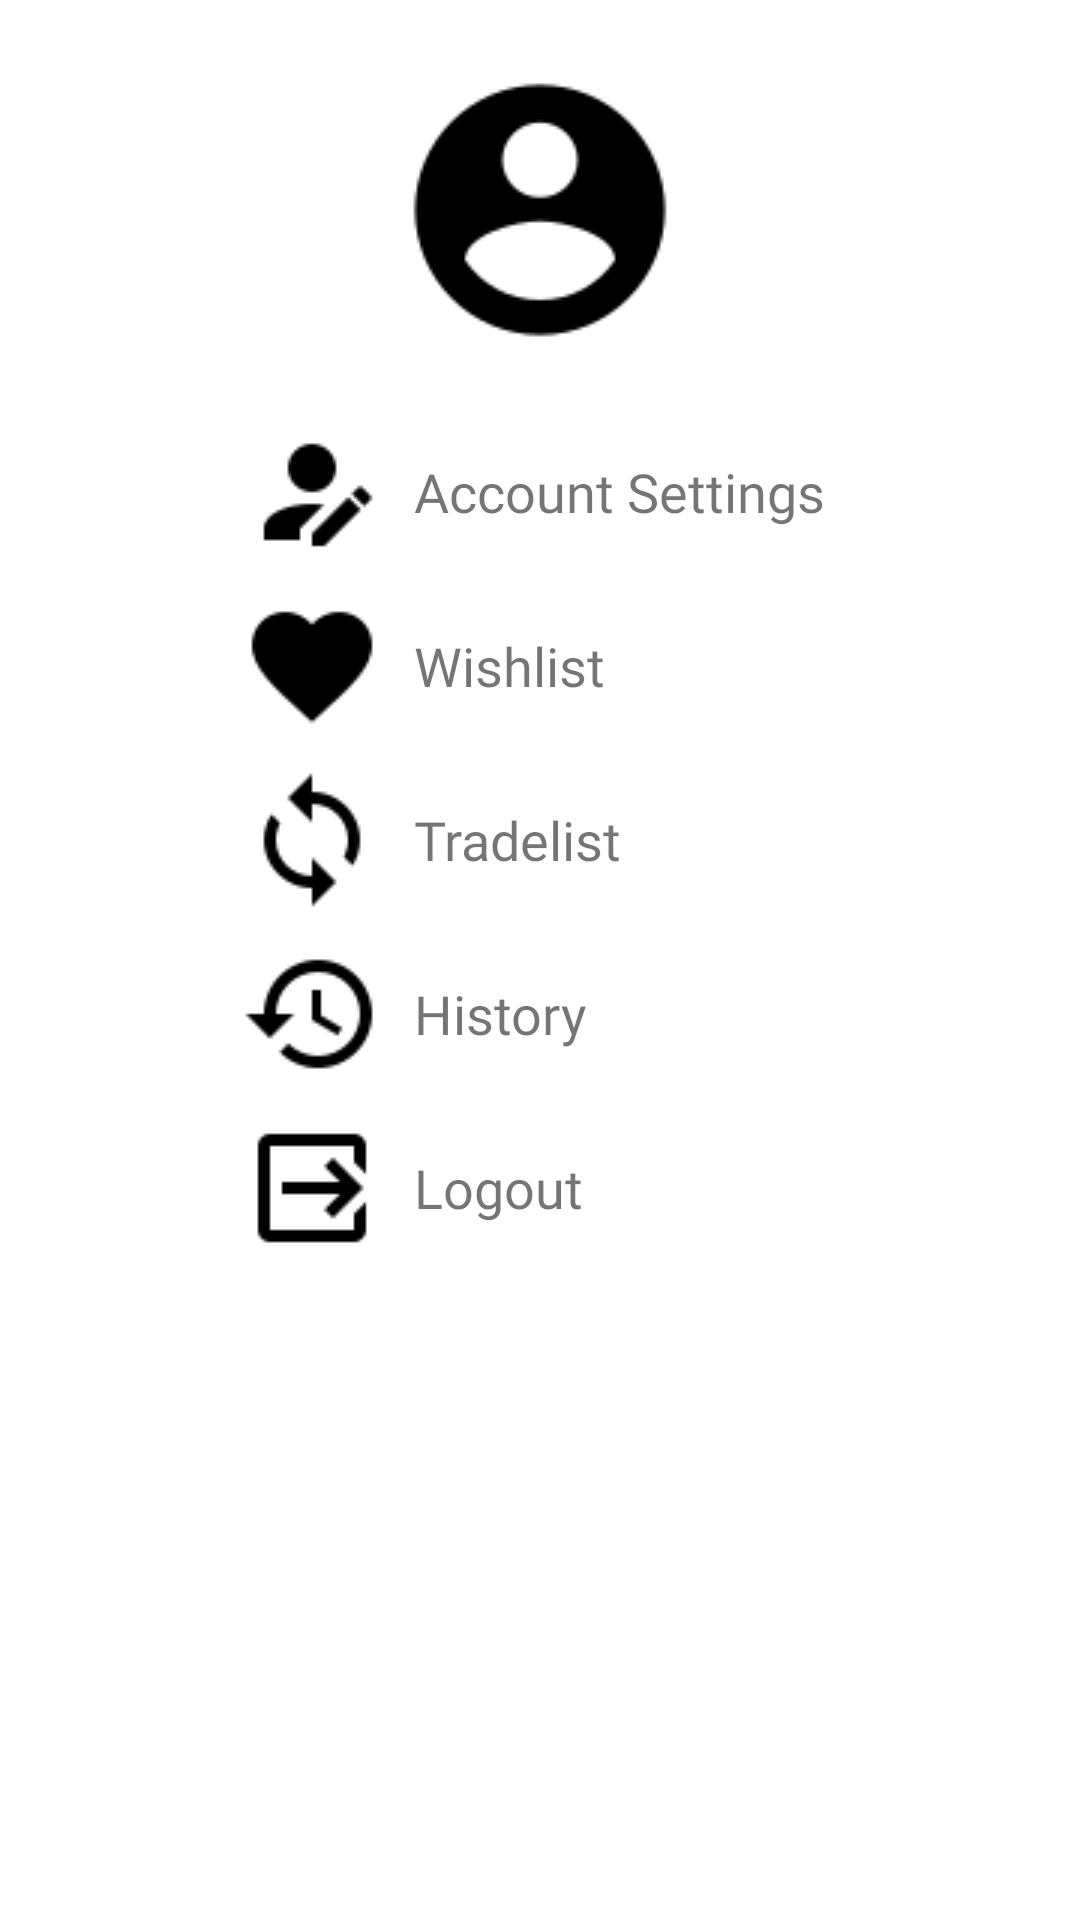

Named icons in this screenshot (1080w x 1920h) and their bounding boxes, (x1, y1, x2, y2):
account circle: (413, 83, 667, 337)
account edit: (263, 443, 373, 547)
heart: (251, 611, 373, 723)
sync: (263, 773, 361, 907)
